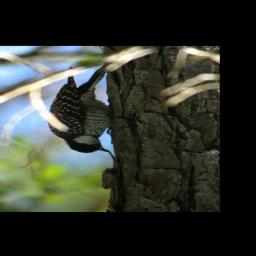Woodpecker: (46, 63, 114, 154)
